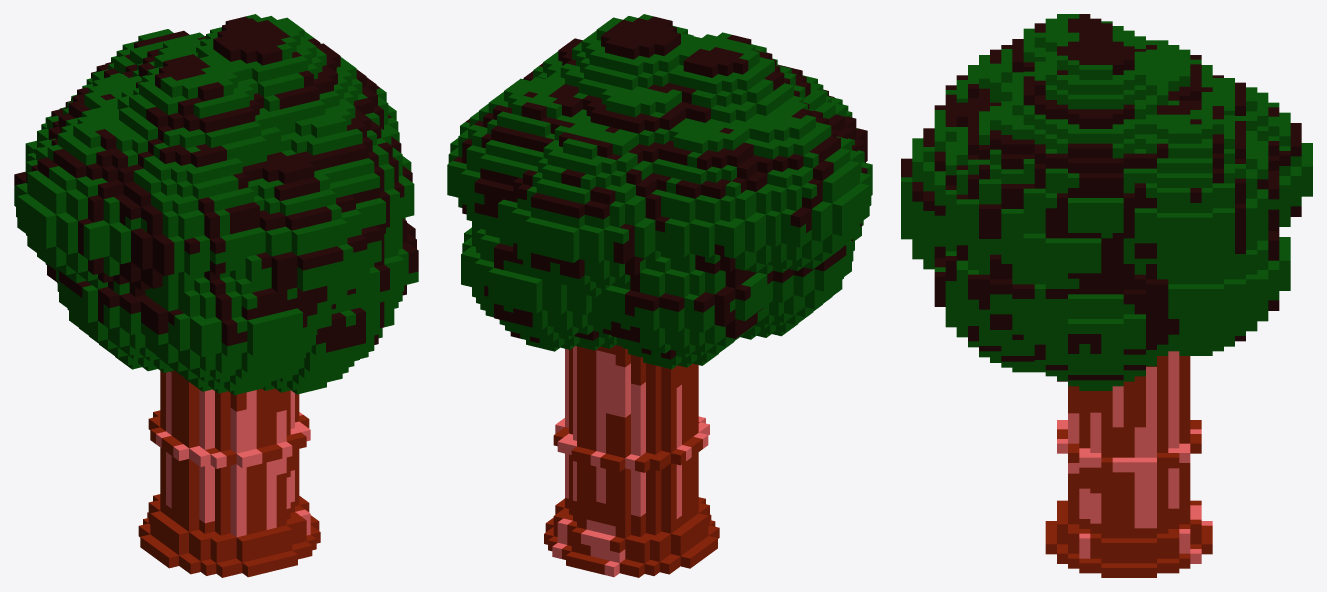
The model's file is Baum.obj.
The picture shows the model from 3 angles, left to right: view 1: azimuth 30°, elevation 25°; view 2: azimuth 150°, elevation 25°; view 3: azimuth 270°, elevation 25°; orthographic projection. The views are drawn at different scales.
Size of the model in its own units: 3.6 by 4.9 by 3.7.
